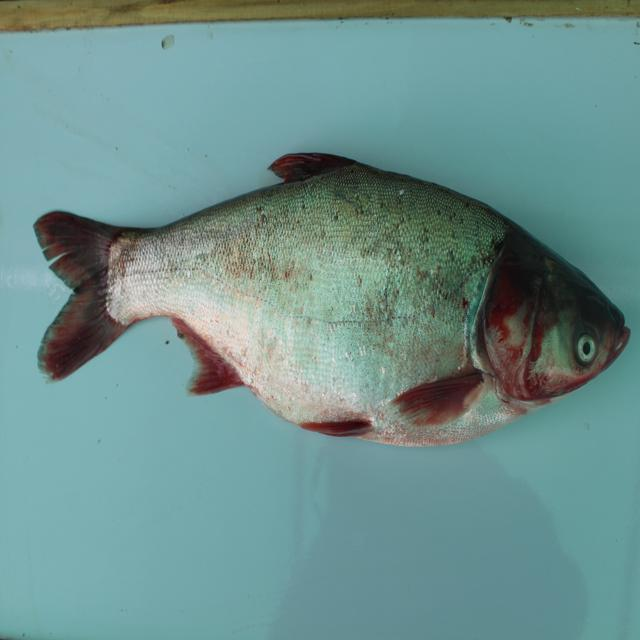SilverCarp: (42, 176, 637, 451)
